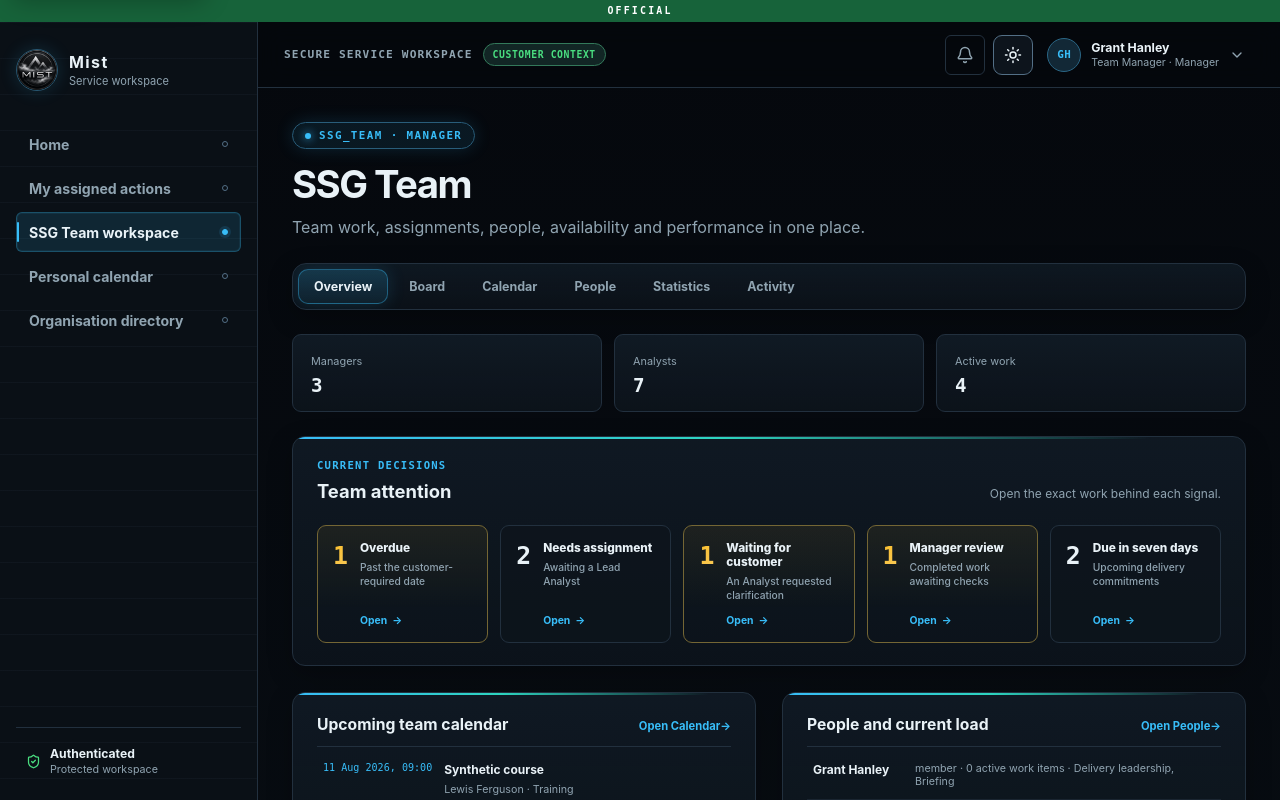
Test: team workspace › provides an accessible overview, all workspace views and immutable activity
expect the heading "SSG Team" is shown: met, box [292,161,471,207]
expect the text "Managers" shows "3": met, box [311,374,323,397]
What coordinates should you click on to do the following:
click the link "Activity"
I would click on:
 (771, 286)
Its box is [747,279,795,294].
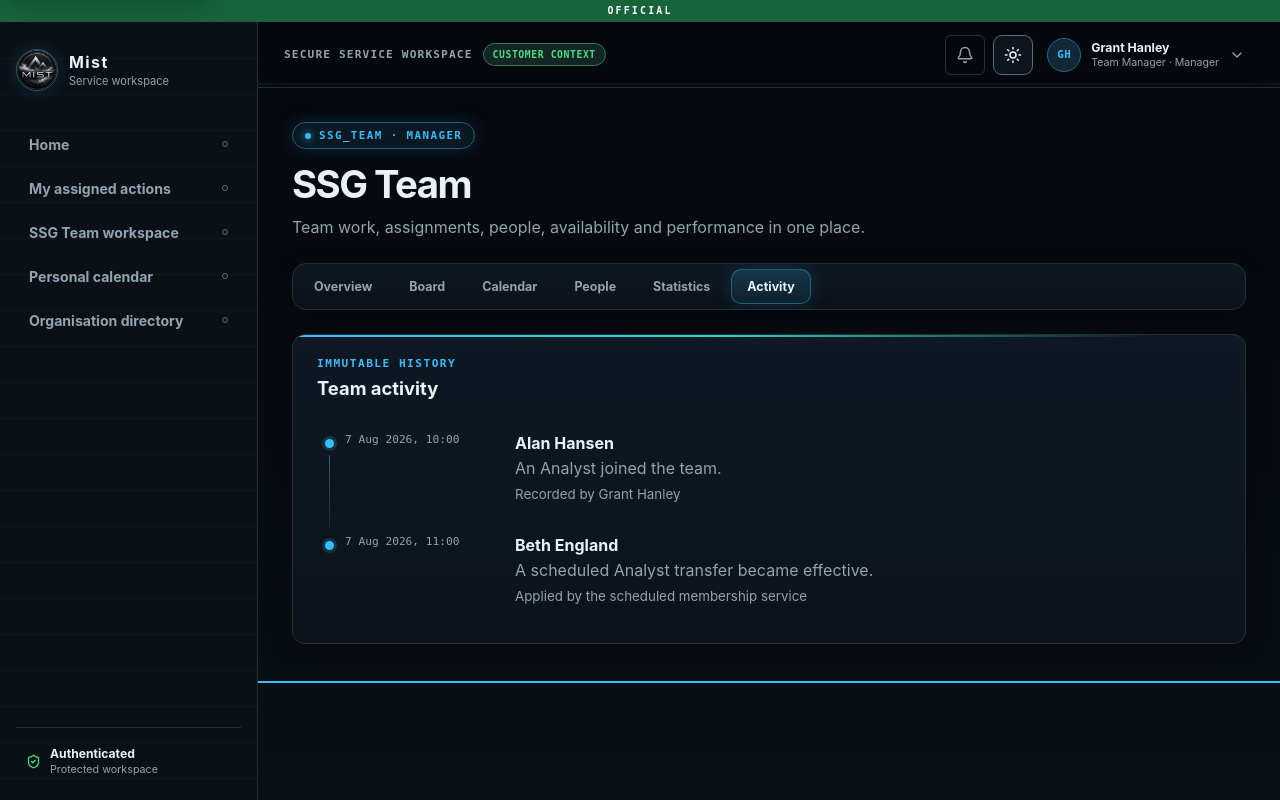
expect the text "A scheduled Analyst transfer became effective." is shown: met, box [515,560,873,580]
expect the text "Applied by the scheduled membership service" is shown: met, box [515,588,807,604]
